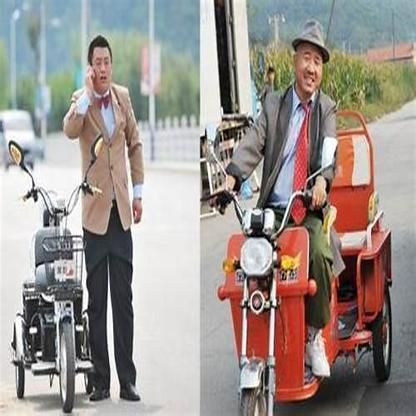target: (219, 21, 393, 412), (10, 35, 145, 412)
